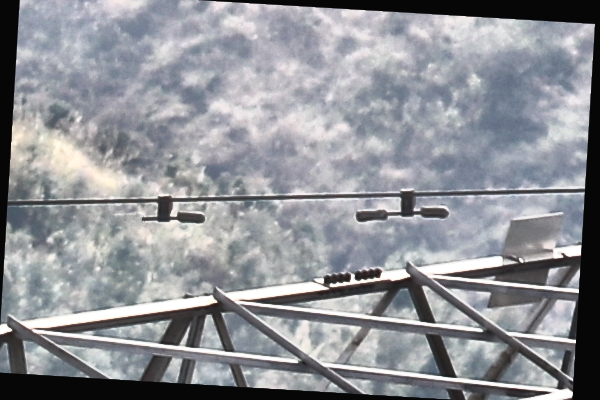damper: (354, 185, 451, 224)
damper_defect: (138, 192, 206, 226)
